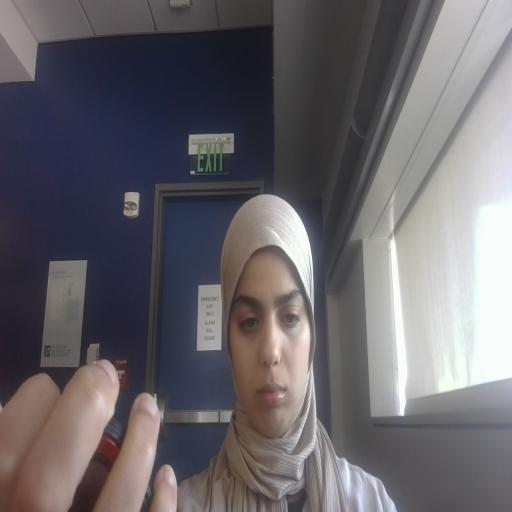phone: (40, 393, 172, 512)
